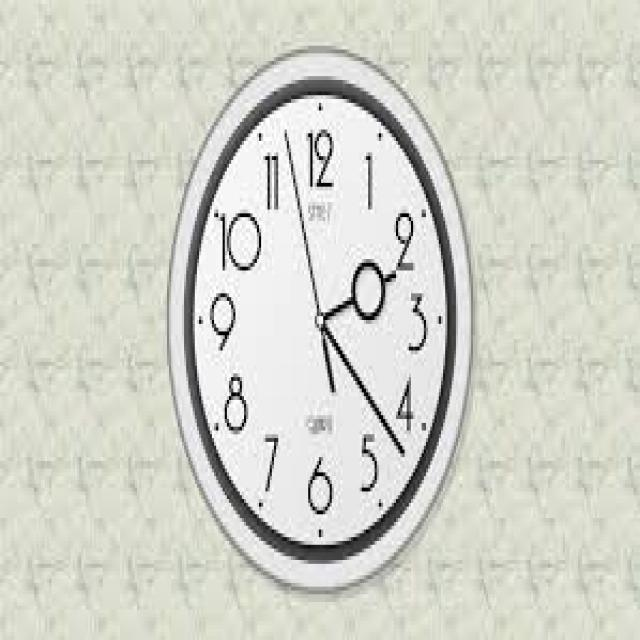Clocks-images: (170, 44, 475, 595)
